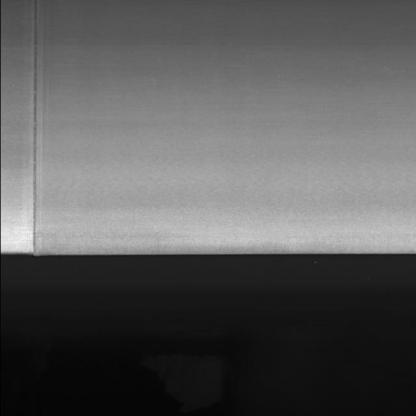welding_line: (24, 1, 48, 256)
